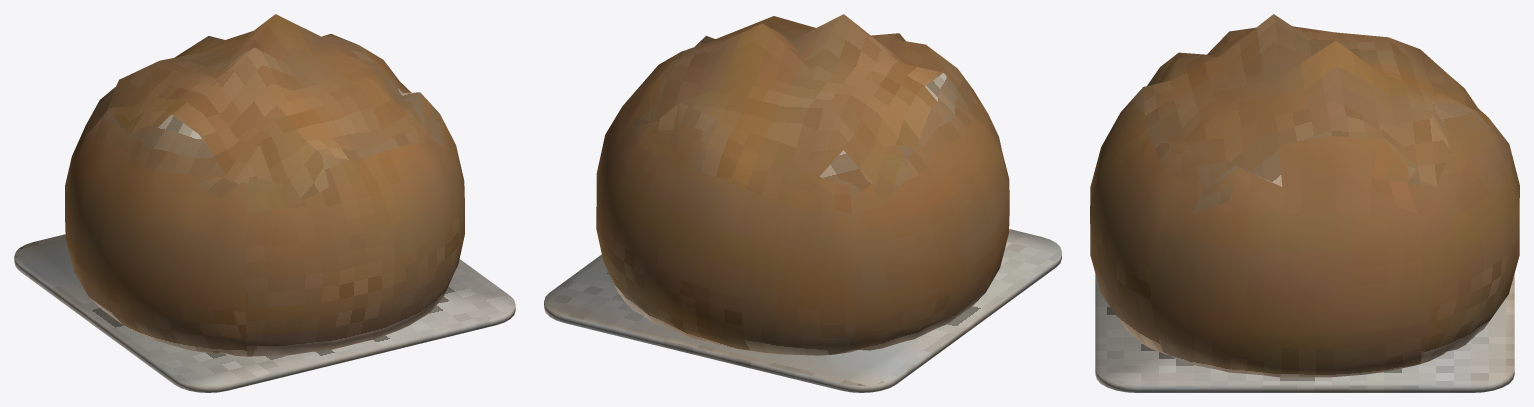
File: pizzaman.glb
3 views of the same model, side by side, from view 1: azimuth 30°, elevation 25°; view 2: azimuth 150°, elevation 25°; view 3: azimuth 270°, elevation 25° (orthographic). The views are drawn at different scales.
Parts seen in each view (by area): view 1: prop_pizzaman_felt; view 2: prop_pizzaman_felt; view 3: prop_pizzaman_felt.
Boxes of the visible parts, left/top/right/bottom form: prop_pizzaman_felt: left=14, top=14, right=515, bottom=392; prop_pizzaman_felt: left=544, top=14, right=1061, bottom=392; prop_pizzaman_felt: left=1090, top=14, right=1519, bottom=392.
Size of the model in its own units: 0.1537 by 0.1095 by 0.1539.
Materials: 1 (1 with a texture image).
